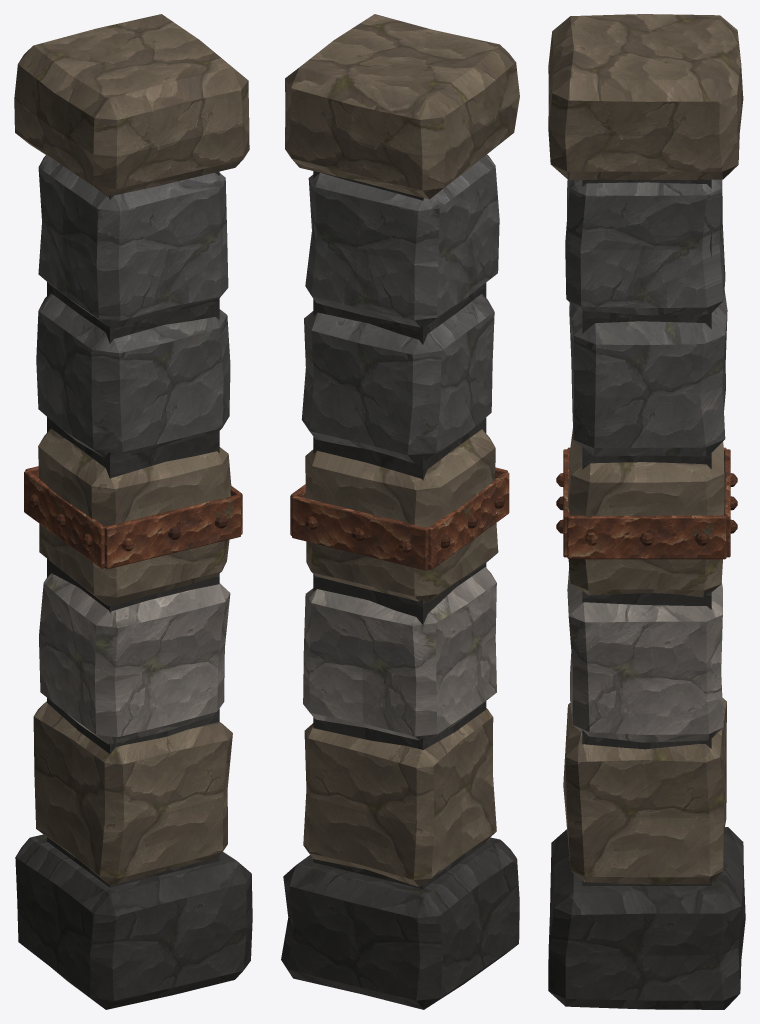
File: pillar__cut_stone.glb
3 views of the same model, side by side, from view 1: azimuth 30°, elevation 25°; view 2: azimuth 150°, elevation 25°; view 3: azimuth 270°, elevation 25° (orthographic). The views are drawn at different scales.
Parts seen in each view (by area): view 1: model; view 2: model; view 3: model.
Part boxes in pixels (<box>): model: <box>14,14,252,1009</box>; model: <box>281,14,519,1009</box>; model: <box>548,14,745,1009</box>.
Bounding box in the file's own units: 0.3782 × 1.98 × 0.3822.
Materials: 6 (6 with a texture image).
